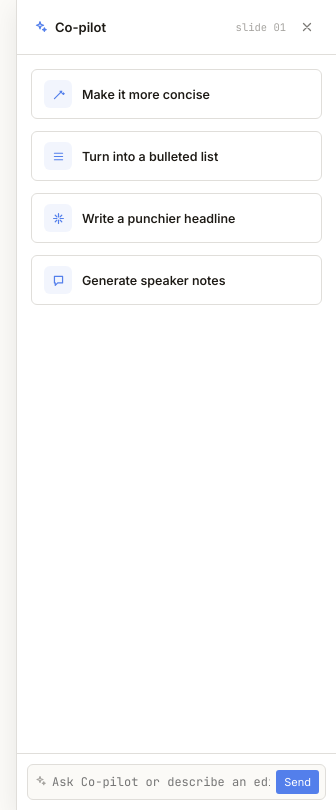
Test case: DefaultAIDrawer › applies the AI patch and confirms the applied fields
In the field with placeholder "Ask Co-pilot or describe an edit…": (161, 782) [50,765,272,799], type "make it punchier"
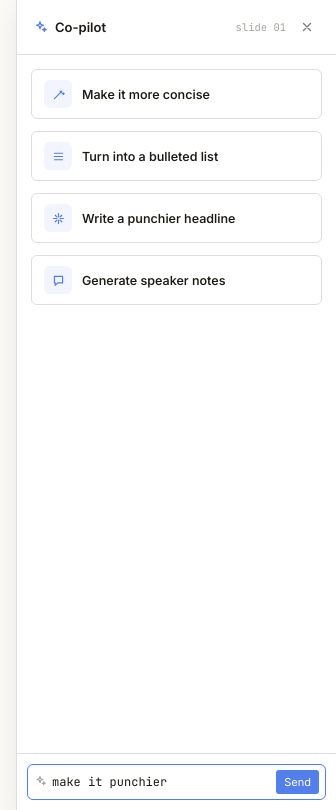
Click the button "Send": (298, 782) [276,770,319,794]
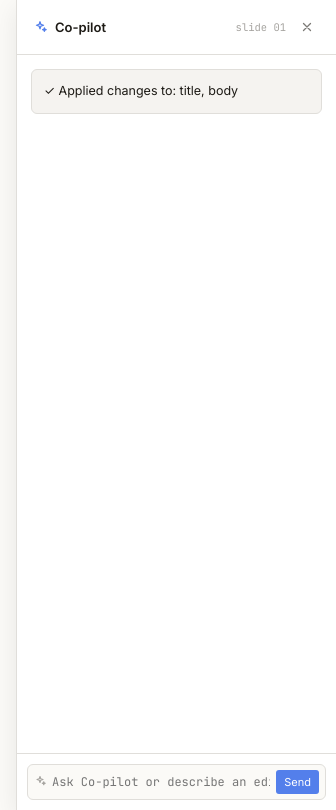
Expected: the text "✓ Applied changes to: title, body" is shown, [31,69,322,114]
